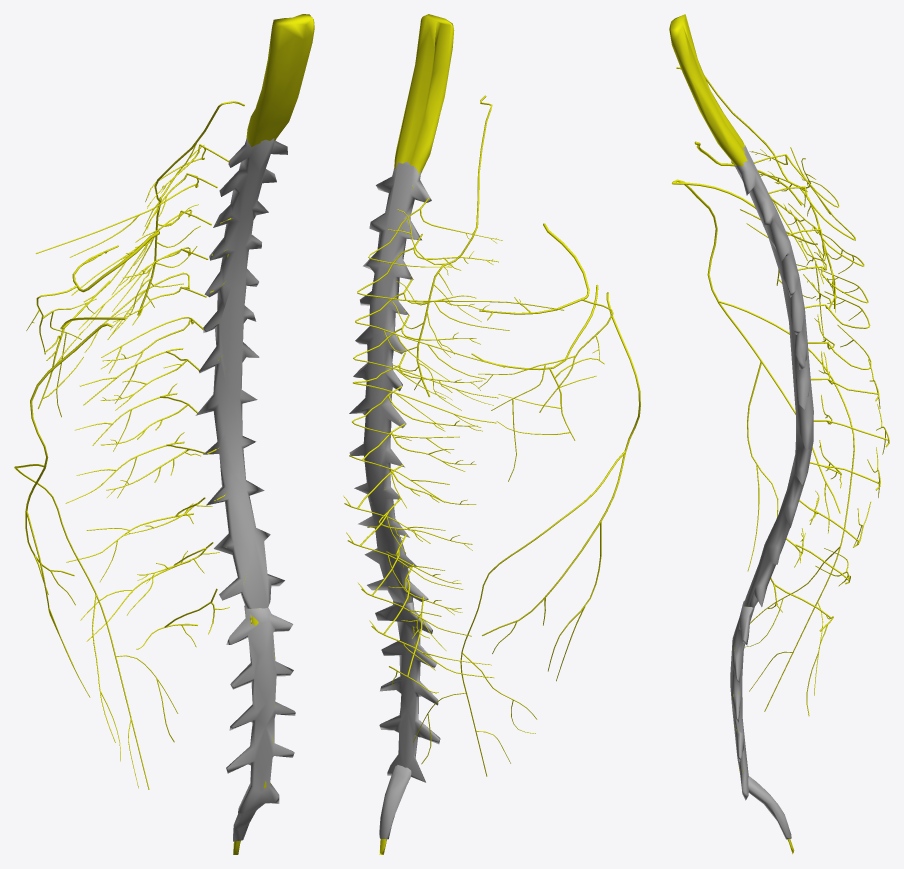
Rendered from Back nerves.fbx.
The picture shows the model from 3 angles, left to right: view 1: azimuth 30°, elevation 25°; view 2: azimuth 150°, elevation 25°; view 3: azimuth 270°, elevation 25°; orthographic projection. The views are drawn at different scales.
Visible parts, largest first — view 1: Dura_mater_thoracic_region, Dura_mater_lumbar_region, Spinal_cord, Thoracodorsal_C06_C08_R, Dorsal_scapular_C04_C05_R, Suprascapular_C04_C06_R, Upper_subscapular_C05_C06_R; view 2: Dura_mater_thoracic_region, Spinal_cord, Dura_mater_lumbar_region, Thoracodorsal_C06_C08_R, Dorsal_scapular_C04_C05_R, Suprascapular_C04_C06_R, Dura_mater_sacral_region, Upper_subscapular_C05_C06_R, T02_dorsal_ramus_medial_branch_R, T03_dorsal_ramus_medial_branch_R; view 3: Dura_mater_thoracic_region, Spinal_cord, Thoracodorsal_C06_C08_R, Dura_mater_lumbar_region, Dorsal_scapular_C04_C05_R, Suprascapular_C04_C06_R, Dura_mater_sacral_region, Upper_subscapular_C05_C06_R.
Boxes of the visible parts, x1,y1,x2,y2 form: Dura_mater_thoracic_region: [195, 138, 287, 608]; Dura_mater_lumbar_region: [226, 605, 295, 813]; Spinal_cord: [225, 14, 314, 608]; Thoracodorsal_C06_C08_R: [14, 323, 178, 789]; Dorsal_scapular_C04_C05_R: [110, 101, 244, 336]; Suprascapular_C04_C06_R: [26, 231, 159, 417]; Upper_subscapular_C05_C06_R: [38, 280, 125, 408]; Dura_mater_thoracic_region: [349, 162, 431, 604]; Spinal_cord: [371, 14, 454, 502]; Dura_mater_lumbar_region: [375, 601, 440, 782]; Thoracodorsal_C06_C08_R: [413, 292, 640, 776]; Dorsal_scapular_C04_C05_R: [383, 95, 492, 410]; Suprascapular_C04_C06_R: [478, 223, 613, 481]; Dura_mater_sacral_region: [379, 765, 411, 839]; Upper_subscapular_C05_C06_R: [471, 284, 604, 440]; T02_dorsal_ramus_medial_branch_R: [357, 247, 564, 330]; T03_dorsal_ramus_medial_branch_R: [355, 292, 505, 381]; Dura_mater_thoracic_region: [733, 145, 813, 607]; Spinal_cord: [669, 14, 747, 166]; Thoracodorsal_C06_C08_R: [673, 179, 854, 716]; Dura_mater_lumbar_region: [730, 600, 754, 800]; Dorsal_scapular_C04_C05_R: [676, 67, 836, 312]; Suprascapular_C04_C06_R: [694, 141, 825, 343]; Dura_mater_sacral_region: [748, 776, 791, 839]; Upper_subscapular_C05_C06_R: [671, 182, 817, 298].
Size of the model in its own units: 18.7 by 56.44 by 13.57.
